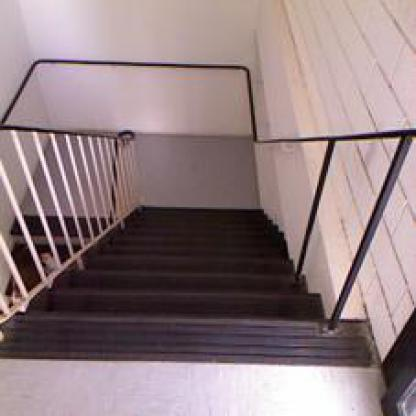stair_down: (14, 270, 338, 370)
